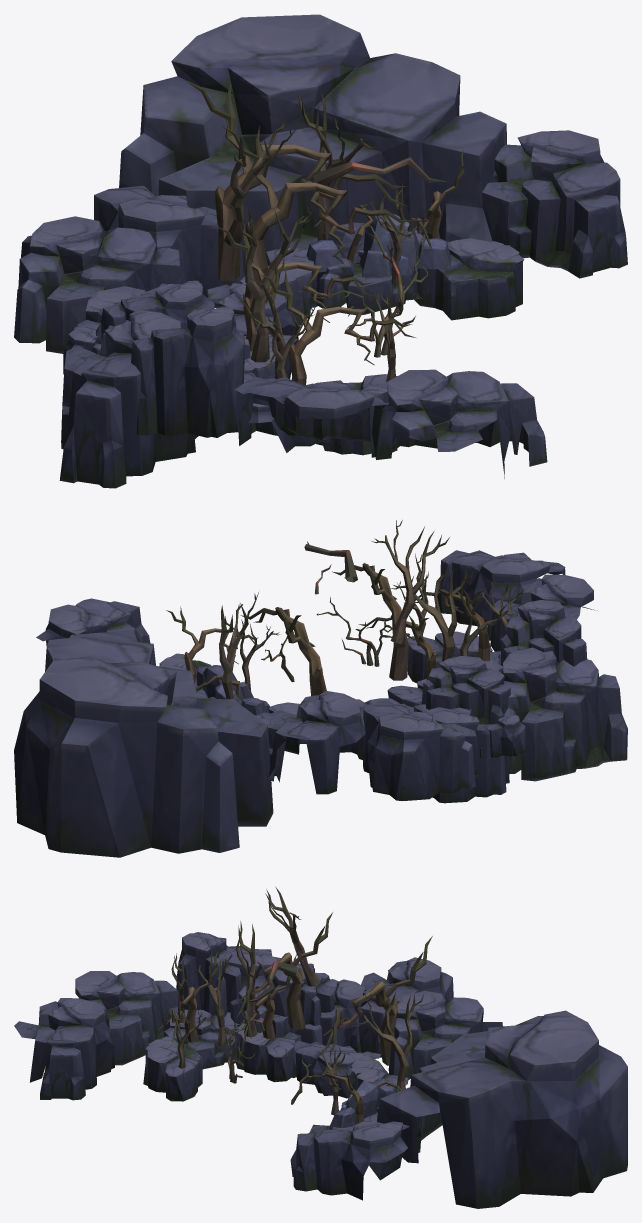
Rendered from Area03_4.fbx.
The picture shows the model from 3 angles, top to bottom: view 1: azimuth 30°, elevation 25°; view 2: azimuth 150°, elevation 25°; view 3: azimuth 270°, elevation 25°; orthographic projection. The views are drawn at different scales.
Visible parts, largest first — view 1: Area03_4; view 2: Area03_4; view 3: Area03_4.
Boxes of the visible parts, x1,y1,x2,y2 form: Area03_4: (14,14,627,488); Area03_4: (14,520,627,857); Area03_4: (14,886,627,1208).
Bounding box in the file's own units: 9274 × 3901 × 10803.
